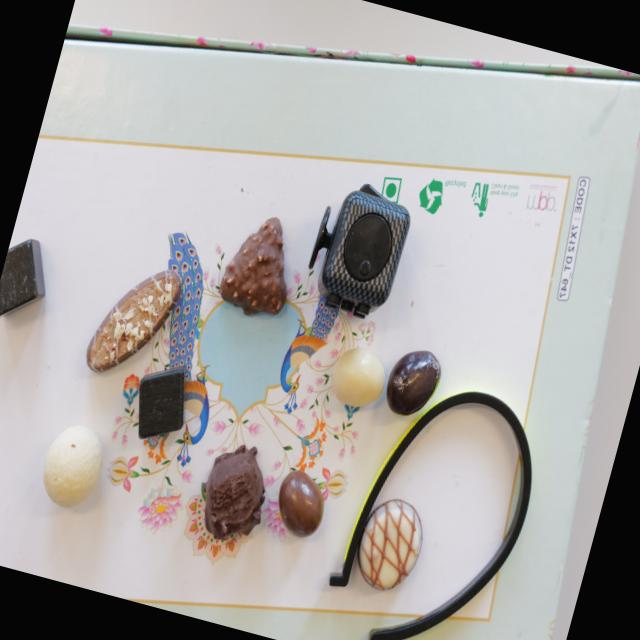Amandina: (80, 258, 186, 390)
Comtesse: (34, 420, 111, 514)
Creme_brulee: (348, 494, 430, 596)
Jelly_Black: (382, 340, 446, 422)
Jelly_Milk: (270, 465, 332, 541)
Jelly_White: (326, 342, 392, 412)
Tentation_noir: (190, 441, 274, 549)
Triangolo: (216, 209, 306, 322)
